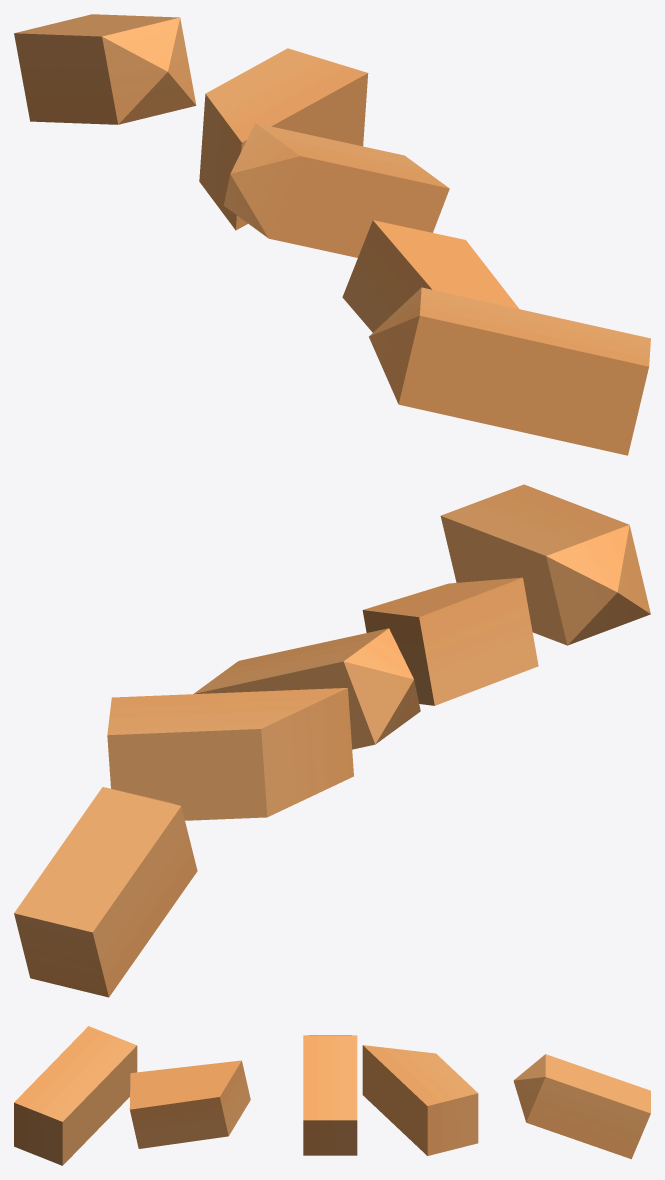
Rendered from Wall_Broken.fbx.
3 renders of one model, top to bottom at view 1: azimuth 30°, elevation 25°; view 2: azimuth 150°, elevation 25°; view 3: azimuth 270°, elevation 25°, orthographic. The views are drawn at different scales.
Visible parts, largest first — view 1: Wall_broken; view 2: Wall_broken; view 3: Wall_broken.
Part boxes in pixels (x1,y1,x2,y2): Wall_broken: (14,14,650,455); Wall_broken: (14,484,650,997); Wall_broken: (14,1026,650,1165).
Bounding box in the file's own units: 0.3369 × 0.213 × 1.23.
1 material, 1 textured.
